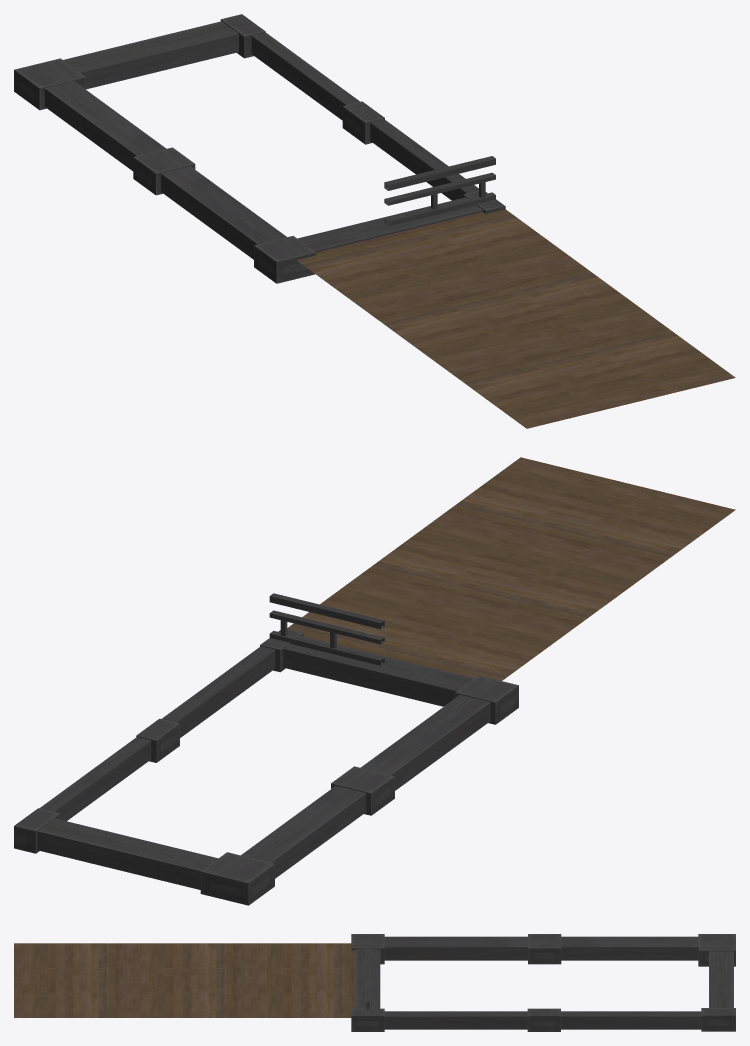
Rendered from Homeworld_Interior_Dq_Room_O_Floor_01_Vo.fbx.
The picture shows the model from 3 angles, top to bottom: view 1: azimuth 30°, elevation 25°; view 2: azimuth 150°, elevation 25°; view 3: azimuth 270°, elevation 25°; orthographic projection. The views are drawn at different scales.
Visible parts, largest first — view 1: Homeworld_Interior_Dq_Room_O_Floor_01_Vo; view 2: Homeworld_Interior_Dq_Room_O_Floor_01_Vo; view 3: Homeworld_Interior_Dq_Room_O_Floor_01_Vo.
Part boxes in pixels (x1,y1,x2,y2): Homeworld_Interior_Dq_Room_O_Floor_01_Vo: [14, 14, 735, 428]; Homeworld_Interior_Dq_Room_O_Floor_01_Vo: [14, 457, 735, 905]; Homeworld_Interior_Dq_Room_O_Floor_01_Vo: [14, 934, 735, 1031].
Size of the model in its own units: 5.47 by 1.43 by 20.42.
